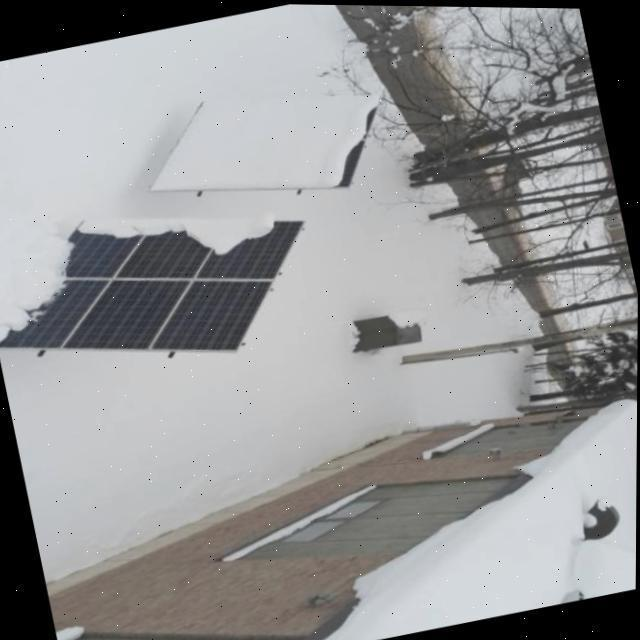Anomaly Solar Panel: (0, 214, 302, 350), (149, 94, 380, 192), (580, 543, 637, 598)
Snow: (148, 96, 379, 192), (0, 235, 75, 349), (581, 544, 637, 598), (143, 218, 224, 252), (211, 220, 274, 256), (77, 215, 152, 240)
